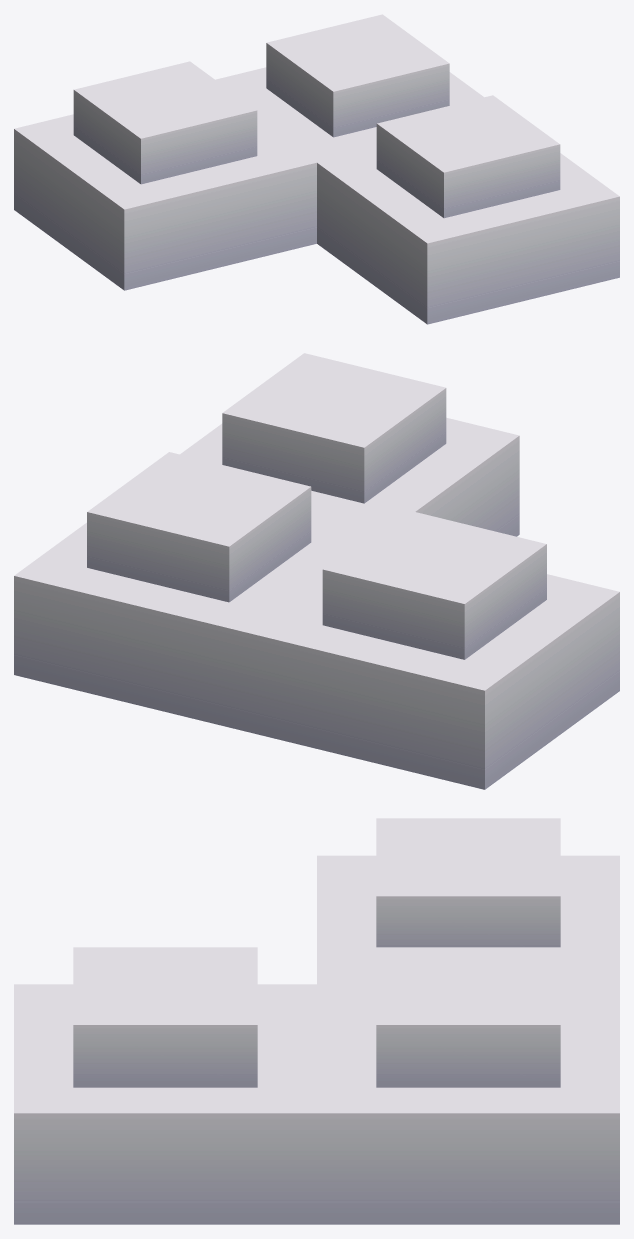
The model's file is square-lq-plate-corner.glb.
3 views of the same model, one above another, from view 1: azimuth 30°, elevation 25°; view 2: azimuth 150°, elevation 25°; view 3: azimuth 270°, elevation 25° (orthographic). The views are drawn at different scales.
Visible parts, largest first — view 1: square-lq-plate-corner; view 2: square-lq-plate-corner; view 3: square-lq-plate-corner.
Part boxes in pixels (x1,y1,x2,y2): square-lq-plate-corner: (14,14,619,324); square-lq-plate-corner: (14,353,619,789); square-lq-plate-corner: (14,818,619,1224).
Bounding box in the file's own units: 0.159 × 0.05 × 0.158.
1 material, 1 textured.
